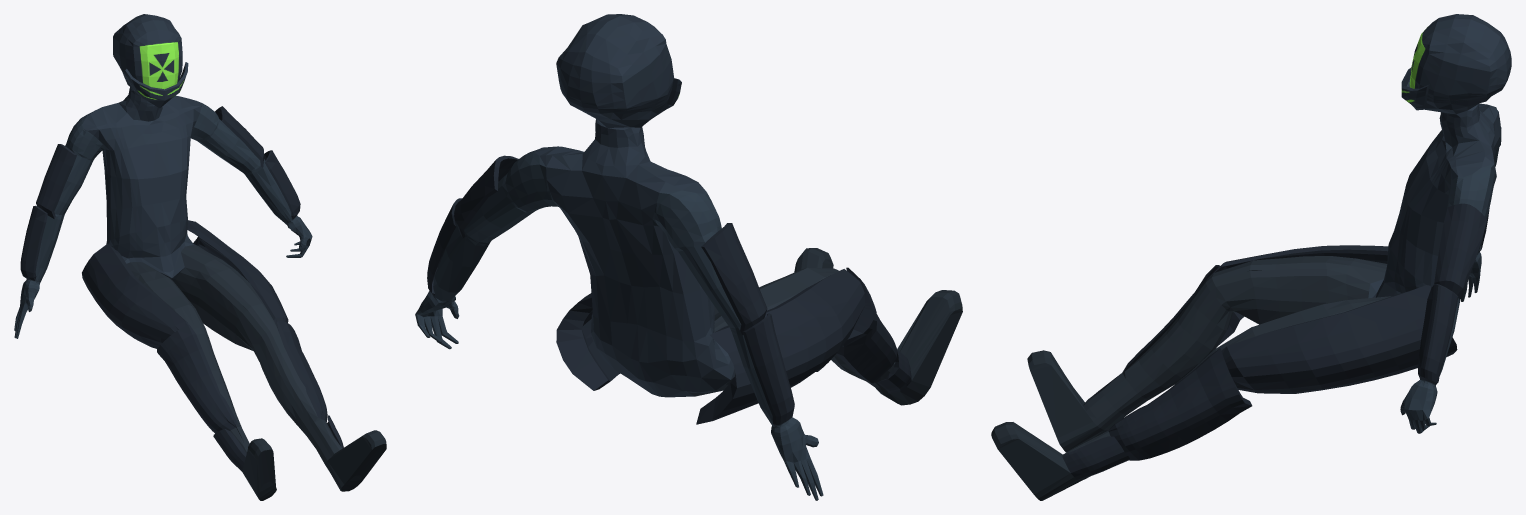
File: Bastion_Die_000005.obj
3 renders of one model, left to right at view 1: azimuth 30°, elevation 25°; view 2: azimuth 150°, elevation 25°; view 3: azimuth 270°, elevation 25°, orthographic. The views are drawn at different scales.
Parts seen in each view (by area): view 1: Cube.002; view 2: Cube.002; view 3: Cube.002.
Part boxes in pixels (x1,y1,x2,y2): Cube.002: (14, 14, 386, 500); Cube.002: (415, 14, 962, 500); Cube.002: (991, 14, 1511, 500).
Size of the model in its own units: 2.16 by 2.64 by 2.7.
